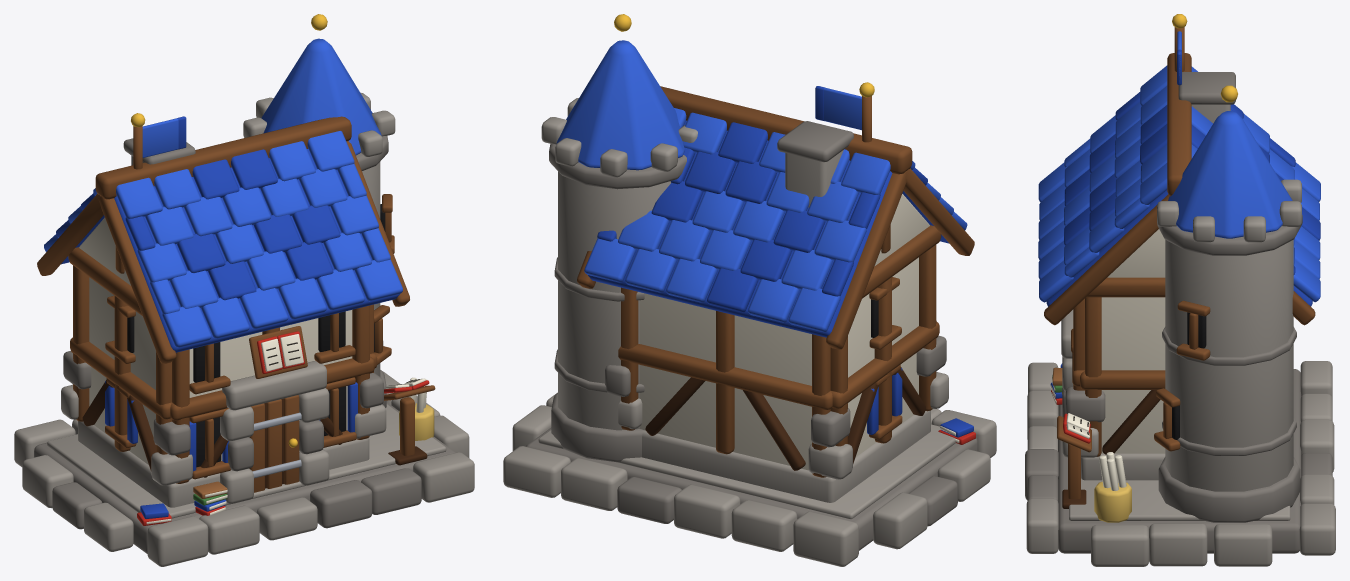
File: Library.glb
3 views of the same model, side by side, from view 1: azimuth 30°, elevation 25°; view 2: azimuth 150°, elevation 25°; view 3: azimuth 270°, elevation 25° (orthographic). The views are drawn at different scales.
Parts seen in each view (by area): view 1: Library; view 2: Library; view 3: Library.
Boxes of the visible parts, left/top/right/bottom form: Library: left=14, top=14, right=474, bottom=566; Library: left=503, top=14, right=996, bottom=566; Library: left=1025, top=14, right=1335, bottom=566.
Size of the model in its own units: 3.96 by 4.38 by 2.81.
